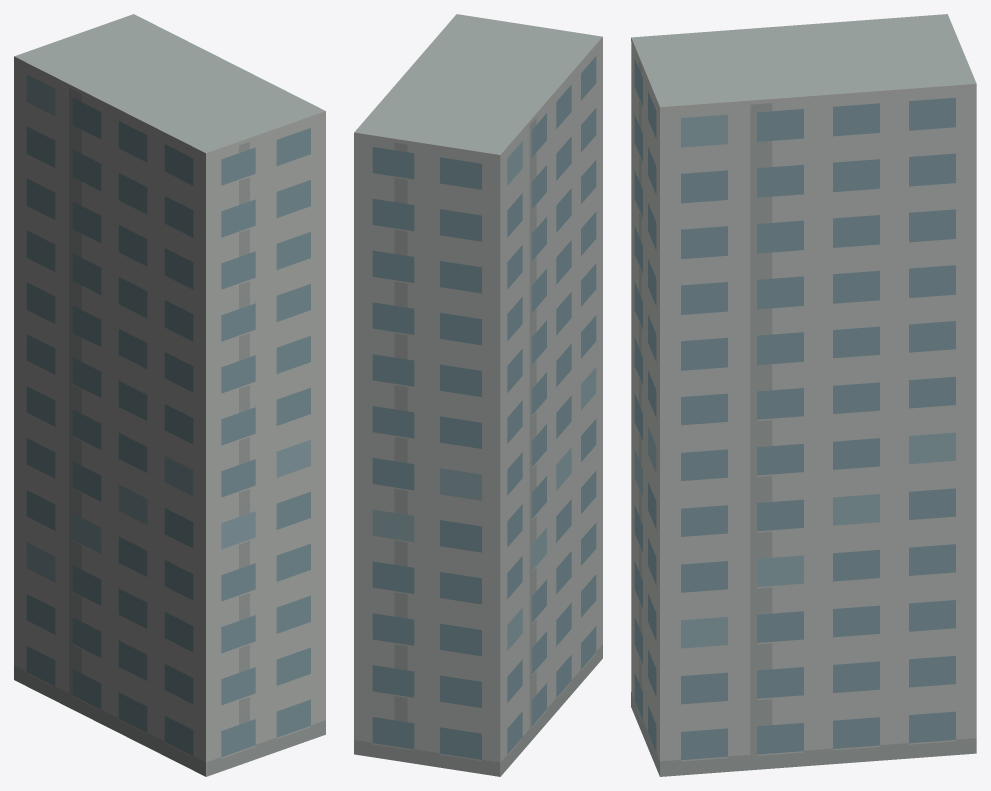
File: residential-95b6c0e6-1d45-4e5a-8365-adc471419bd0.glb
The picture shows the model from 3 angles, left to right: view 1: azimuth 30°, elevation 25°; view 2: azimuth 150°, elevation 25°; view 3: azimuth 270°, elevation 25°; orthographic projection. The views are drawn at different scales.
Parts seen in each view (by area): view 1: residential-95b6c0e6-1d45-4e5a-8365-adc471419bd0.tmp; view 2: residential-95b6c0e6-1d45-4e5a-8365-adc471419bd0.tmp; view 3: residential-95b6c0e6-1d45-4e5a-8365-adc471419bd0.tmp.
Part boxes in pixels (box(x1,y1,x2,y2)): residential-95b6c0e6-1d45-4e5a-8365-adc471419bd0.tmp: box(14, 14, 325, 776); residential-95b6c0e6-1d45-4e5a-8365-adc471419bd0.tmp: box(354, 14, 602, 776); residential-95b6c0e6-1d45-4e5a-8365-adc471419bd0.tmp: box(631, 14, 976, 776).
Bounding box in the file's own units: 11.95 × 40 × 18.71.
